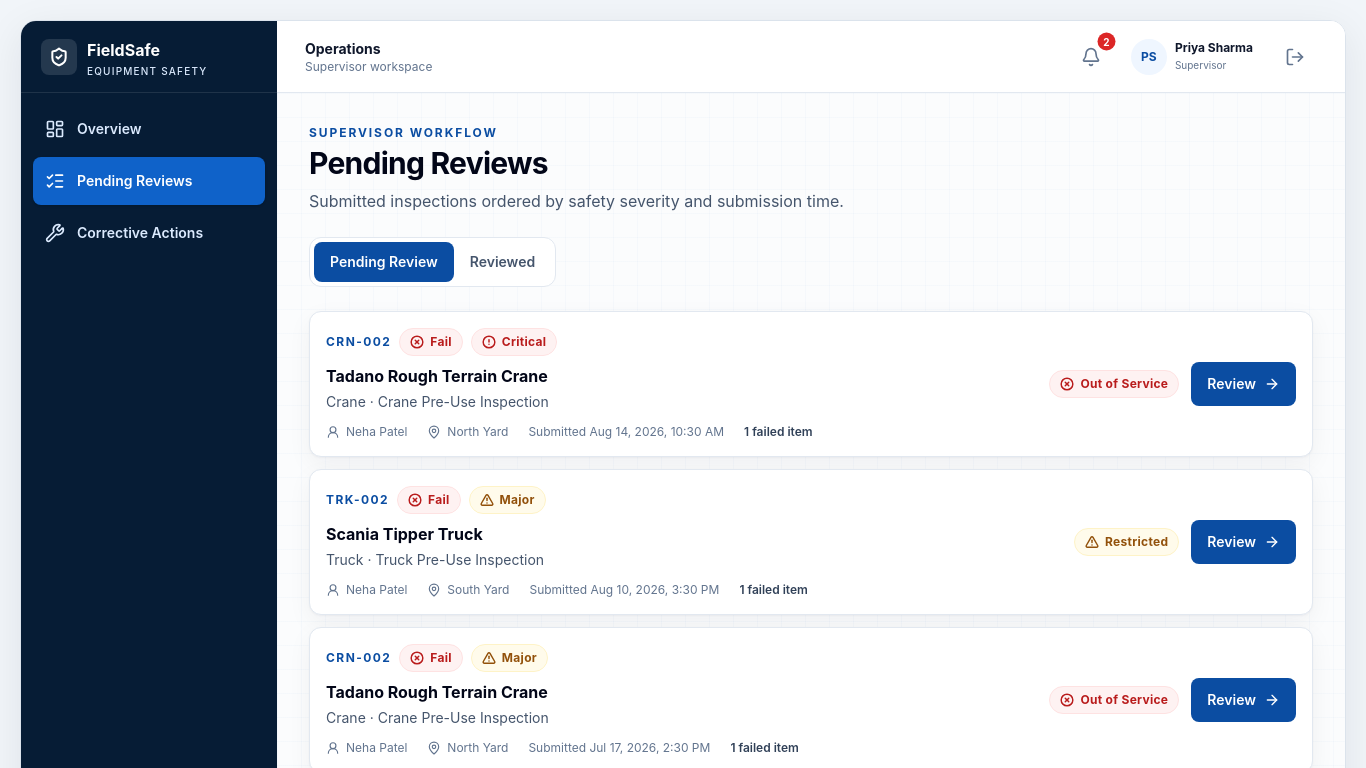
Test: TASK-032 audited full-surface navigation › uses full-card links for pending, reviewed, and corrective-action collections
Check: the link named "Review for " in the row of "Aug 14, 2026, 10:30 AM" is shown, box [310, 312, 1312, 456]
Check: the 1st link "Review" is shown, box [1191, 362, 1296, 406]
What coordinates should you click on to do the following:
click the button "Reviewed"
I would click on:
 (502, 262)
Its box is [454, 242, 551, 282].
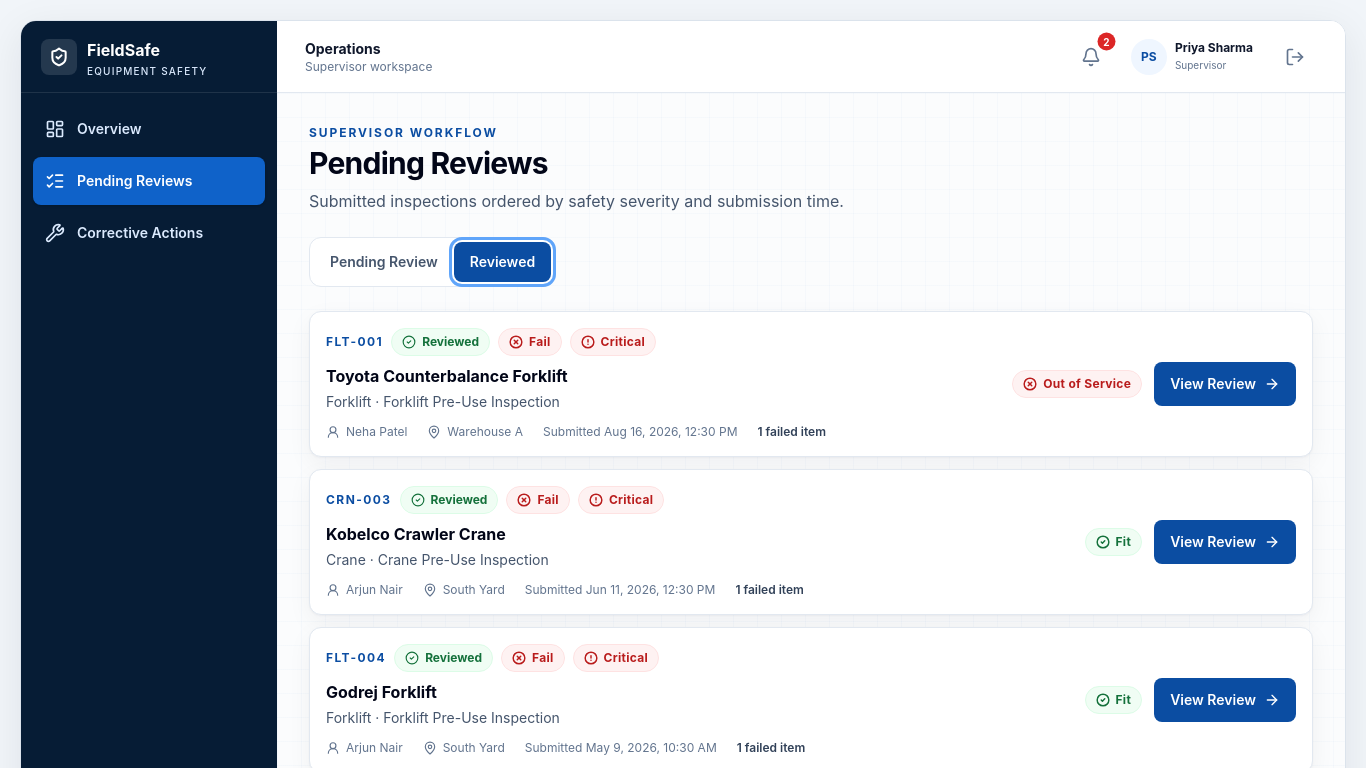
Check: the link named "View review for " is shown, box [310, 312, 1312, 456]
Check: the link "View Review" in the row of "Toyota Counterbalance Forklift" is shown, box [1154, 362, 1296, 406]
